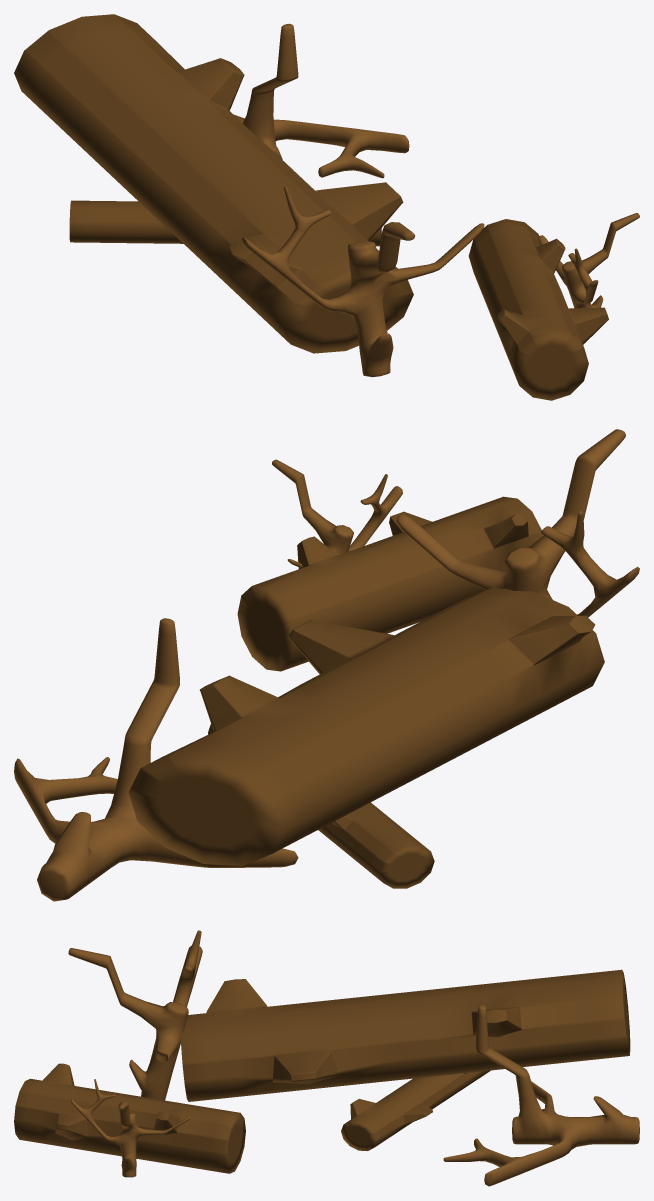
The model's file is logs and branches.fbx.
The picture shows the model from 3 angles, top to bottom: view 1: azimuth 30°, elevation 25°; view 2: azimuth 150°, elevation 25°; view 3: azimuth 270°, elevation 25°; orthographic projection. The views are drawn at different scales.
Parts seen in each view (by area): view 1: Cylinder, Cylinder.001, Cube.001, Cube, Cylinder.002, Cube.002; view 2: Cylinder, Cylinder.001, Cube, Cube.001, Cylinder.002, Cube.002; view 3: Cylinder, Cylinder.001, Cube, Cube.001, Cylinder.002, Cube.002.
Part boxes in pixels (x1,y1,x2,y2): Cylinder: (14, 14, 413, 353); Cylinder.001: (468, 219, 608, 400); Cube.001: (241, 186, 484, 377); Cube: (229, 23, 409, 178); Cylinder.002: (69, 200, 381, 246); Cube.002: (538, 213, 639, 308); Cylinder: (128, 588, 604, 866); Cylinder.001: (237, 496, 543, 671); Cube: (14, 618, 298, 901); Cube.001: (397, 429, 639, 617); Cylinder.002: (208, 724, 434, 888); Cube.002: (272, 459, 402, 568); Cylinder: (180, 969, 630, 1101); Cylinder.001: (14, 1063, 245, 1173); Cube: (443, 1005, 639, 1186); Cube.001: (68, 930, 202, 1100); Cylinder.002: (341, 1070, 490, 1150); Cube.002: (71, 1079, 191, 1177).
Size of the model in its own units: 442 by 220 by 830.
